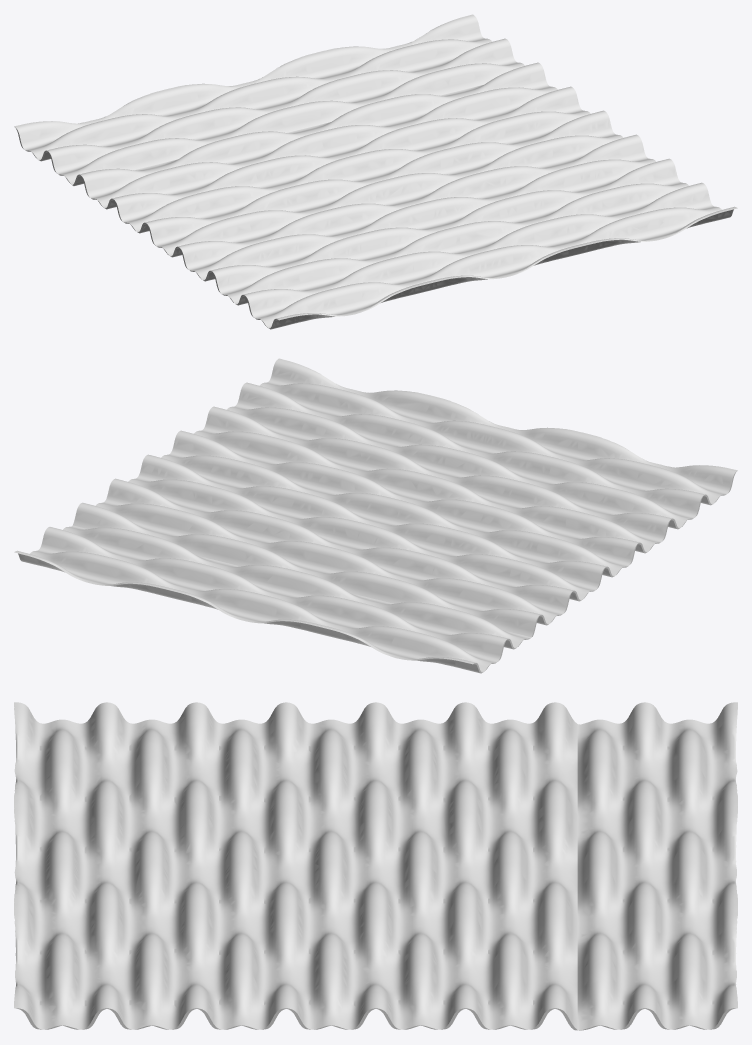
3 renders of one model, top to bottom at view 1: azimuth 30°, elevation 25°; view 2: azimuth 150°, elevation 25°; view 3: azimuth 270°, elevation 25°, orthographic. The views are drawn at different scales.
Visible parts, largest first — view 1: Cube.001; view 2: Cube.001; view 3: Cube.001.
Boxes of the visible parts, bbox=[...] form: Cube.001: bbox=[14, 14, 737, 329]; Cube.001: bbox=[14, 358, 737, 673]; Cube.001: bbox=[14, 702, 737, 1030].
Bounding box in the file's own units: 0.2 × 0.00681 × 0.2.
1 material, 1 textured.
